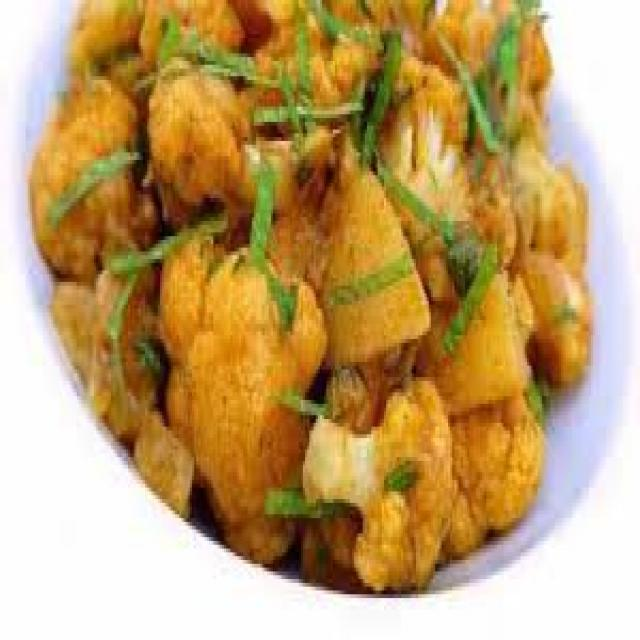Aloo Gobi: (176, 3, 544, 562)
